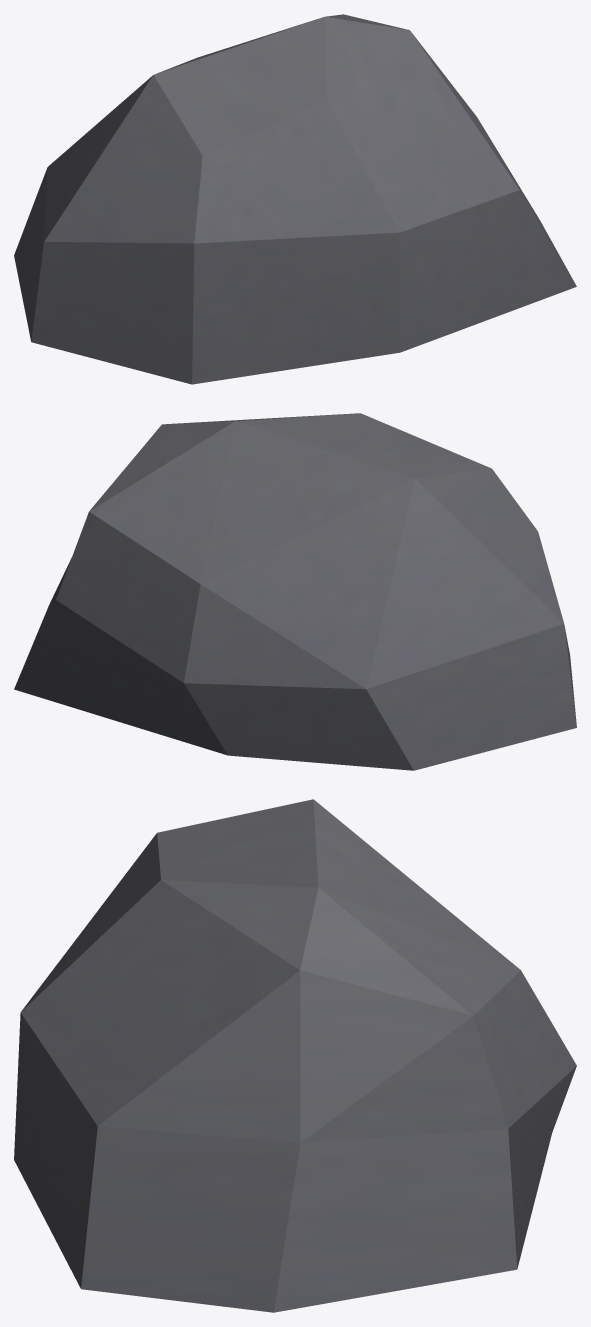
Rendered from Rock_C.obj.
The picture shows the model from 3 angles, top to bottom: view 1: azimuth 30°, elevation 25°; view 2: azimuth 150°, elevation 25°; view 3: azimuth 270°, elevation 25°; orthographic projection. The views are drawn at different scales.
Visible parts, largest first — view 1: Rock_C; view 2: Rock_C; view 3: Rock_C.
Boxes of the visible parts, x1,y1,x2,y2 form: Rock_C: (14, 14, 576, 384); Rock_C: (14, 413, 576, 770); Rock_C: (14, 799, 576, 1312).
Bounding box in the file's own units: 0.9906 × 0.4476 × 0.7478.
